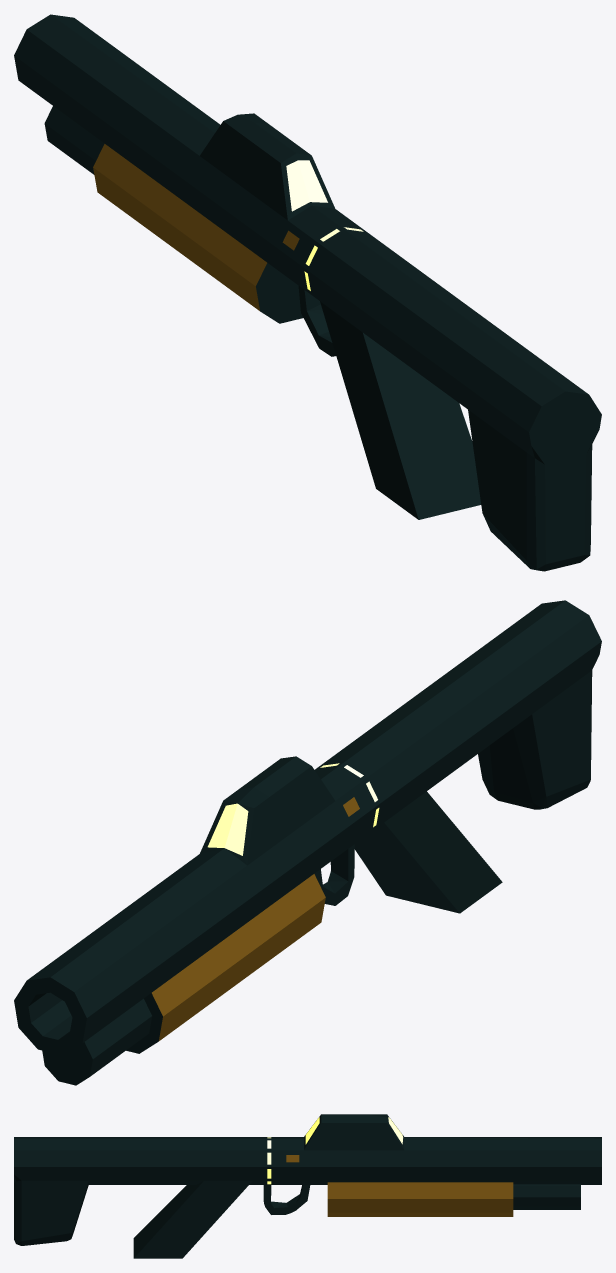
The model's file is SHHHHHHHotgun_v2.fbx.
The picture shows the model from 3 angles, top to bottom: view 1: azimuth 30°, elevation 25°; view 2: azimuth 150°, elevation 25°; view 3: azimuth 270°, elevation 25°; orthographic projection. The views are drawn at different scales.
Visible parts, largest first — view 1: Circle; view 2: Circle; view 3: Circle.
Boxes of the visible parts, x1,y1,x2,y2 form: Circle: [14, 14, 601, 571]; Circle: [14, 600, 601, 1085]; Circle: [14, 1114, 601, 1258].
Bounding box in the file's own units: 216 × 609 × 2408.
